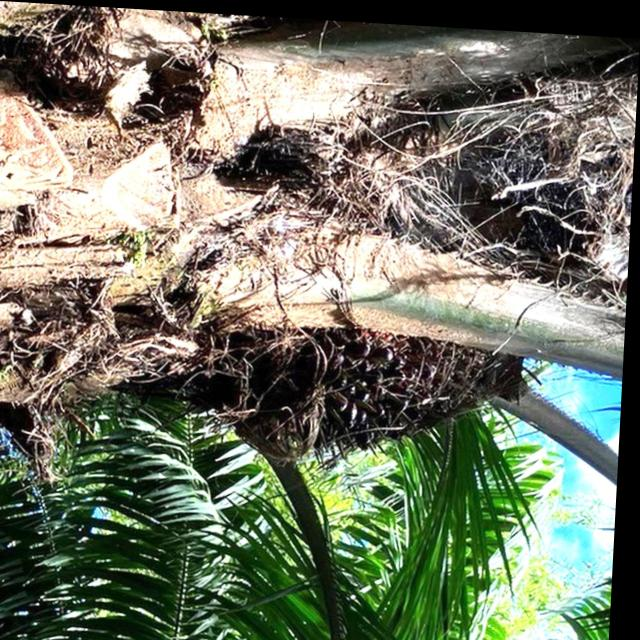ripe: (253, 315, 520, 452)
